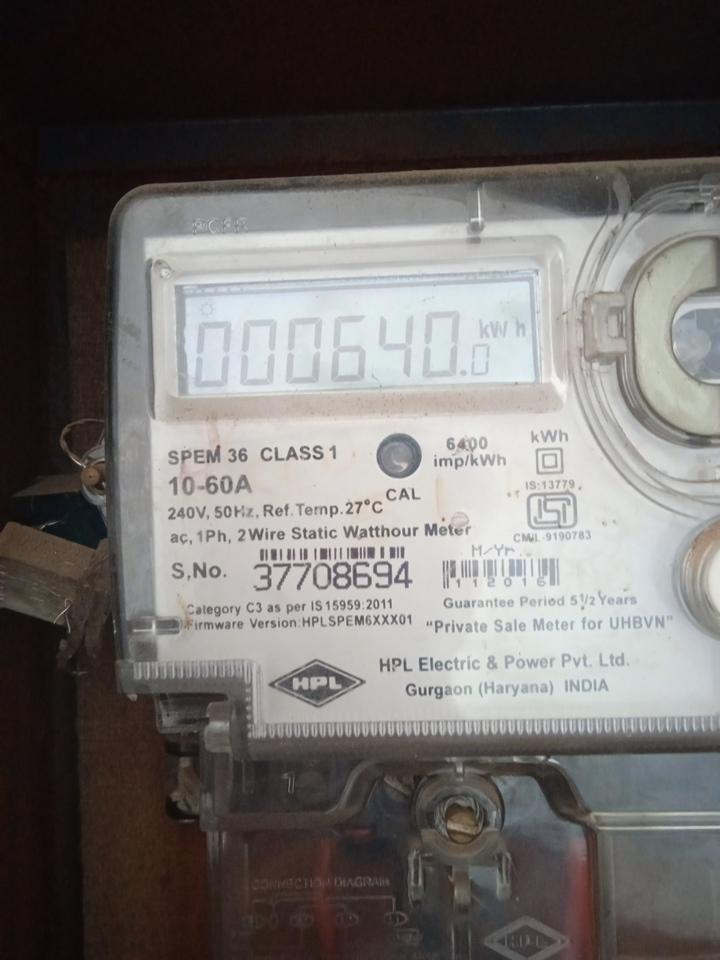.: (477, 317, 527, 344)
0: (458, 369, 466, 378)
1: (239, 308, 279, 389), (194, 313, 233, 396), (287, 310, 327, 388), (420, 303, 457, 383), (469, 338, 493, 387)
5: (379, 308, 418, 387)
7: (332, 312, 368, 390)
